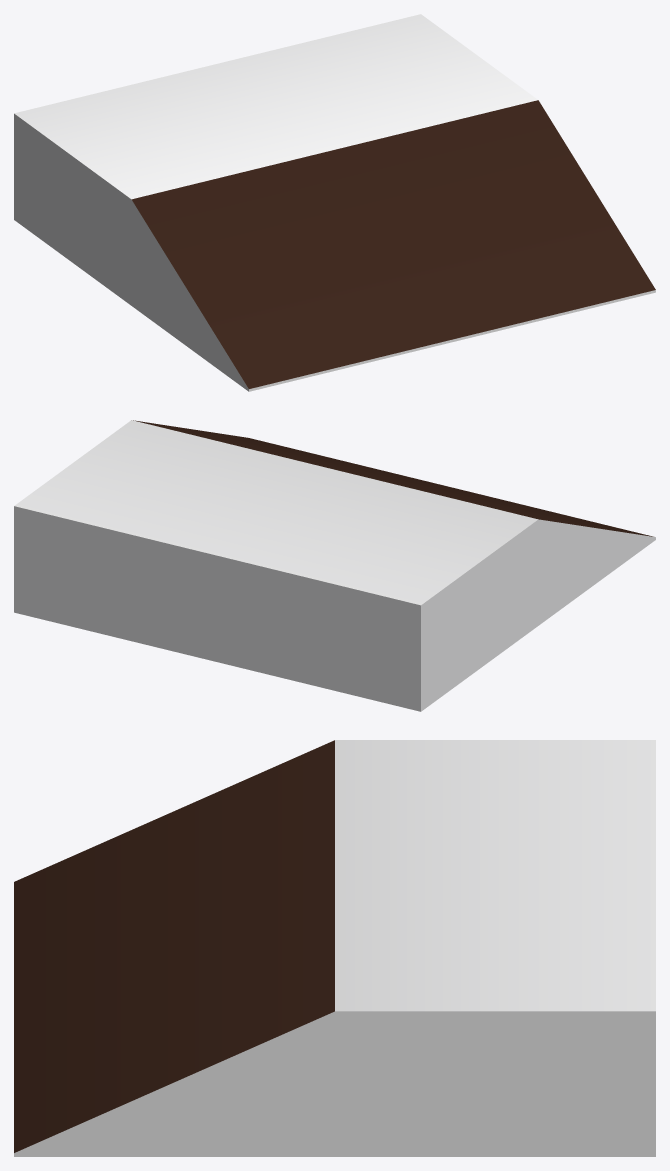
The model's file is uniformedTile-14_col.fbx.
The picture shows the model from 3 angles, top to bottom: view 1: azimuth 30°, elevation 25°; view 2: azimuth 150°, elevation 25°; view 3: azimuth 270°, elevation 25°; orthographic projection. The views are drawn at different scales.
Parts seen in each view (by area): view 1: uniformedTile-14.col; view 2: uniformedTile-14.col; view 3: uniformedTile-14.col.
Boxes of the visible parts, x1,y1,x2,y2 form: uniformedTile-14.col: (14, 14, 655, 391); uniformedTile-14.col: (14, 420, 655, 711); uniformedTile-14.col: (14, 740, 655, 1156).
Size of the model in its own units: 2 by 0.5 by 2.
1 material, 1 textured.
